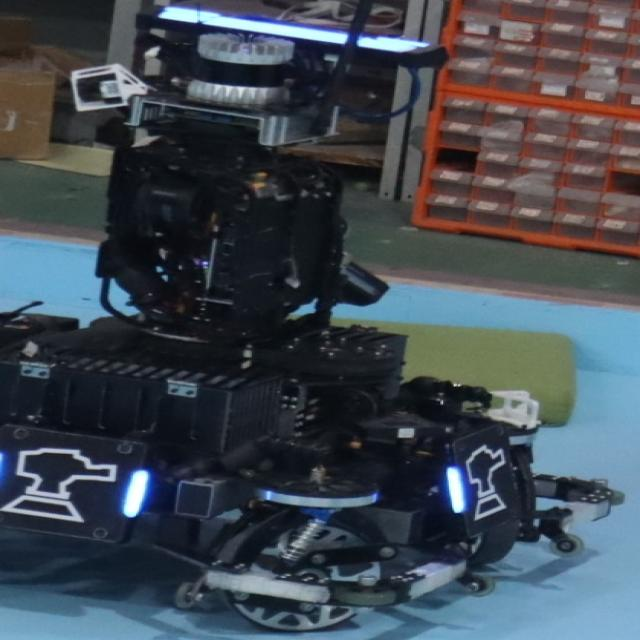Bs: (1, 438, 150, 534), (443, 431, 519, 523)
